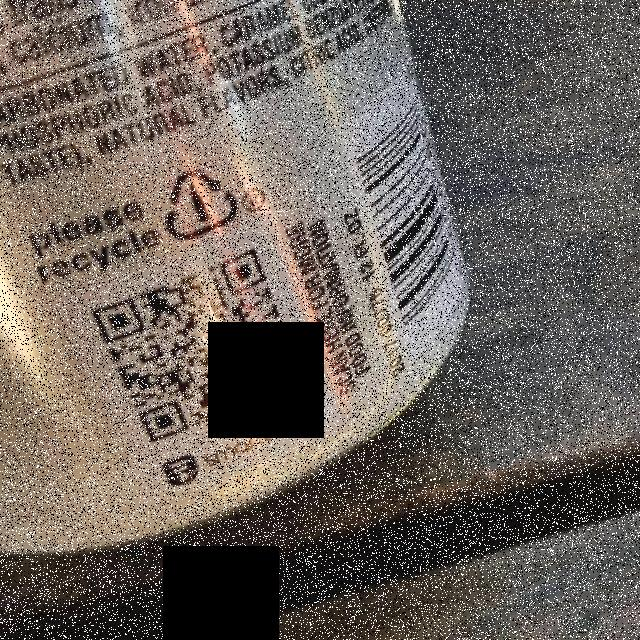QR_CODE: (81, 231, 318, 450)
